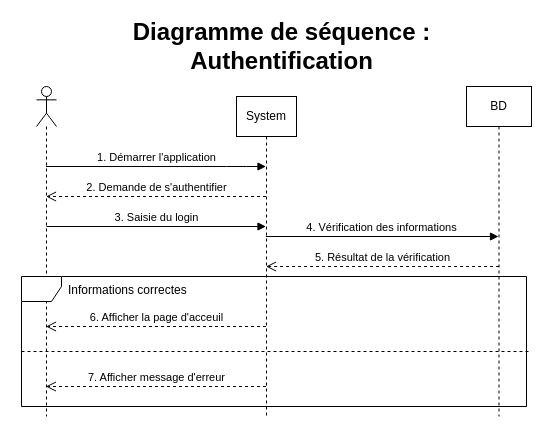
Image size: 549x434. Some labels were removed from this diagram. Each missing label, with the centre of its shape:
"alt" belongs at pixel 273 341.
"Utilisateur" belongs at pixel 46 251.
